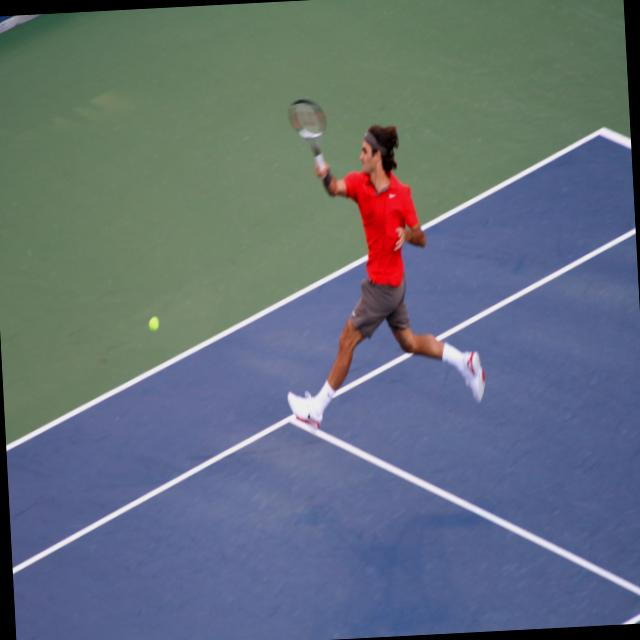Tennis Ball: (148, 316, 158, 331)
